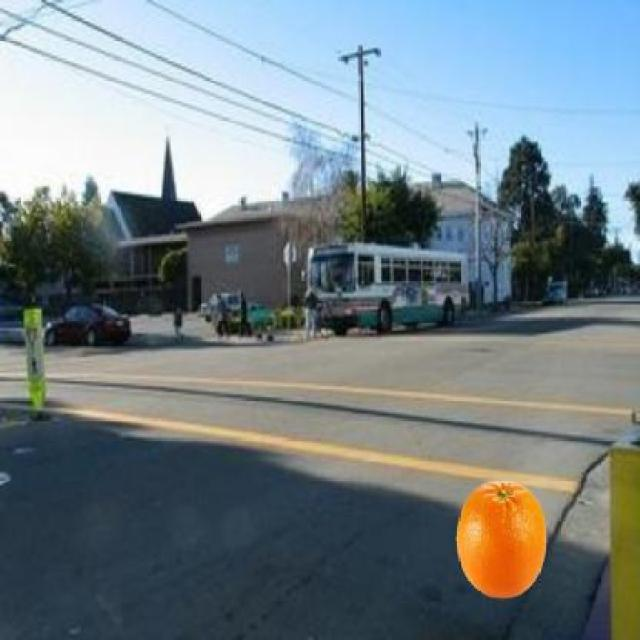Orange: (454, 477, 548, 600)
